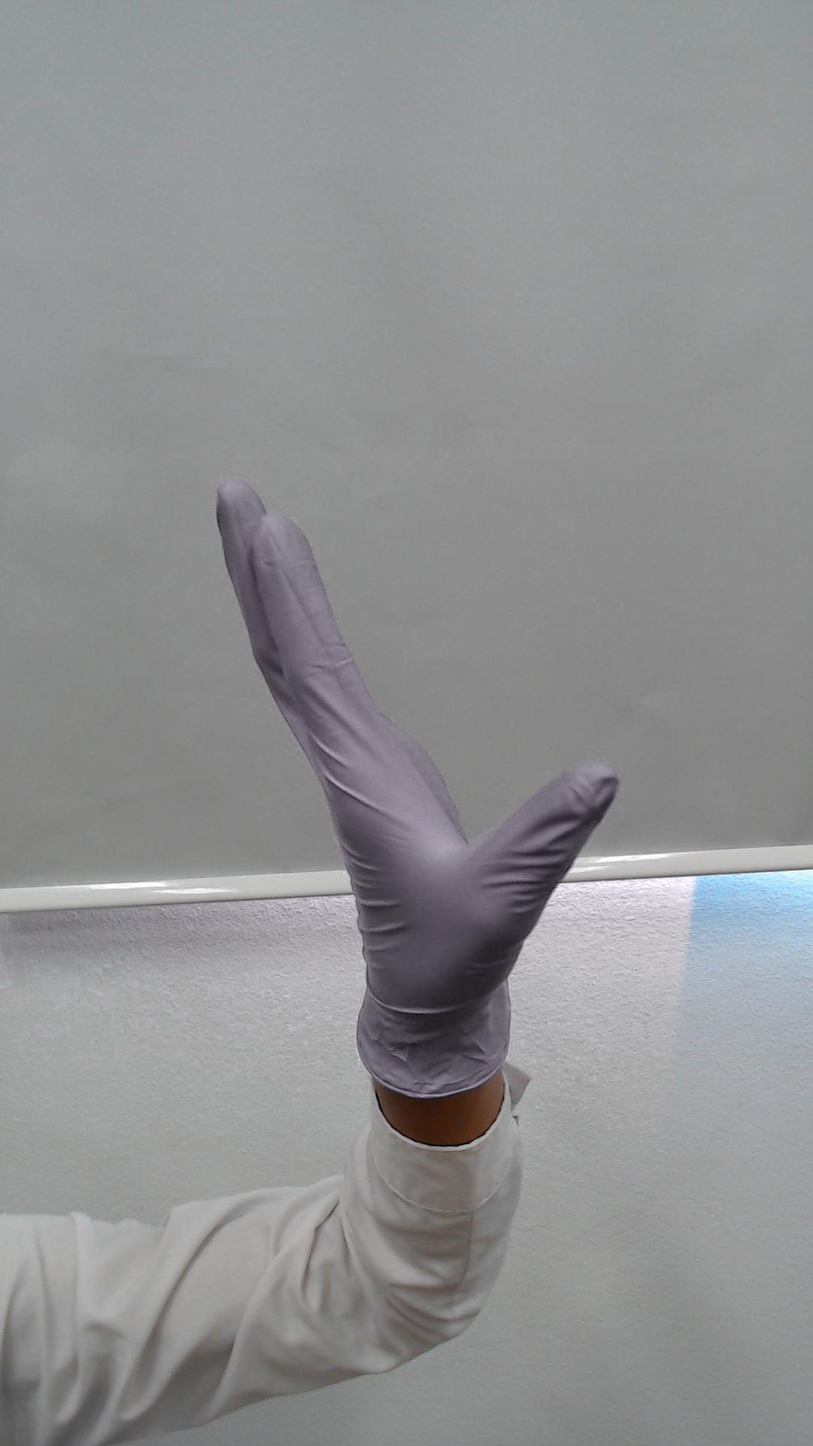gloves: (144, 426, 693, 1039)
